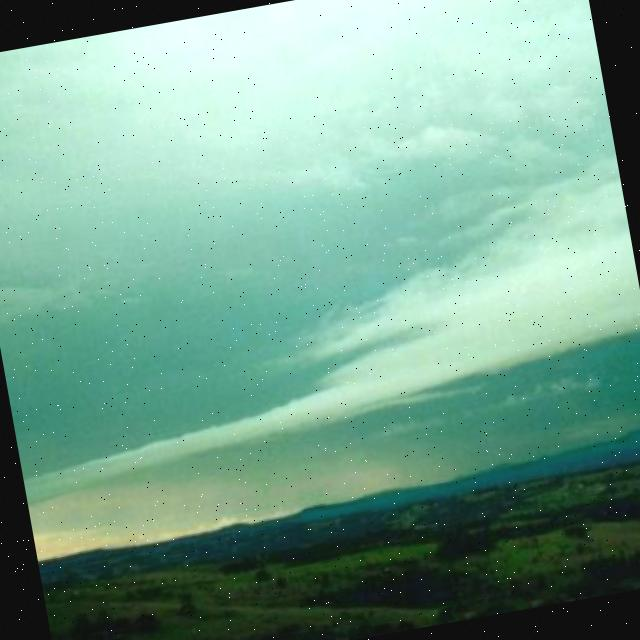St: (1, 144, 640, 523)
